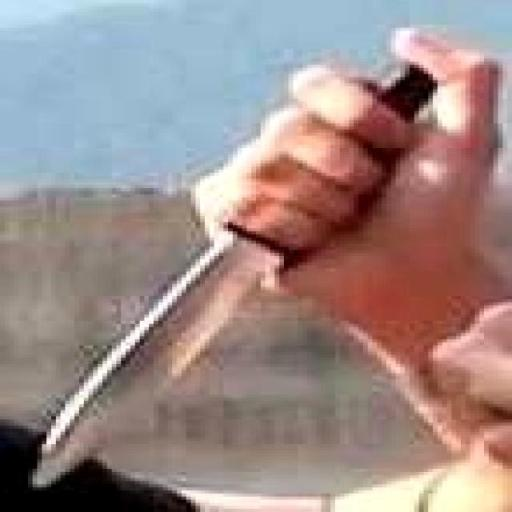knife: (16, 45, 437, 502)
